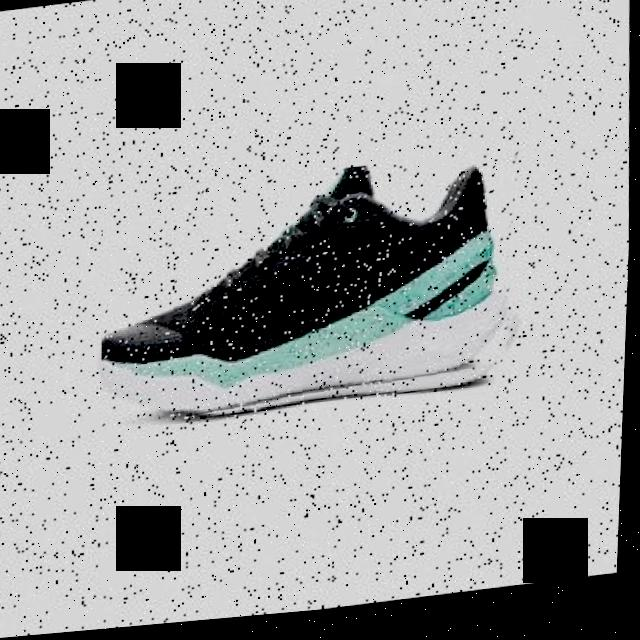shoe: (96, 156, 529, 433)
